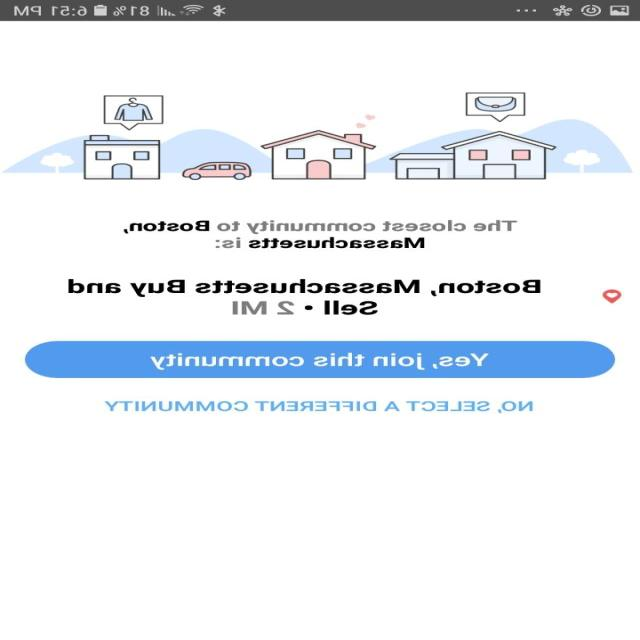Icon: (602, 289, 622, 304)
Image: (1, 92, 640, 181)
Text: (69, 278, 542, 315), (122, 218, 518, 248), (104, 401, 534, 413)
TextButton: (25, 341, 615, 378)
